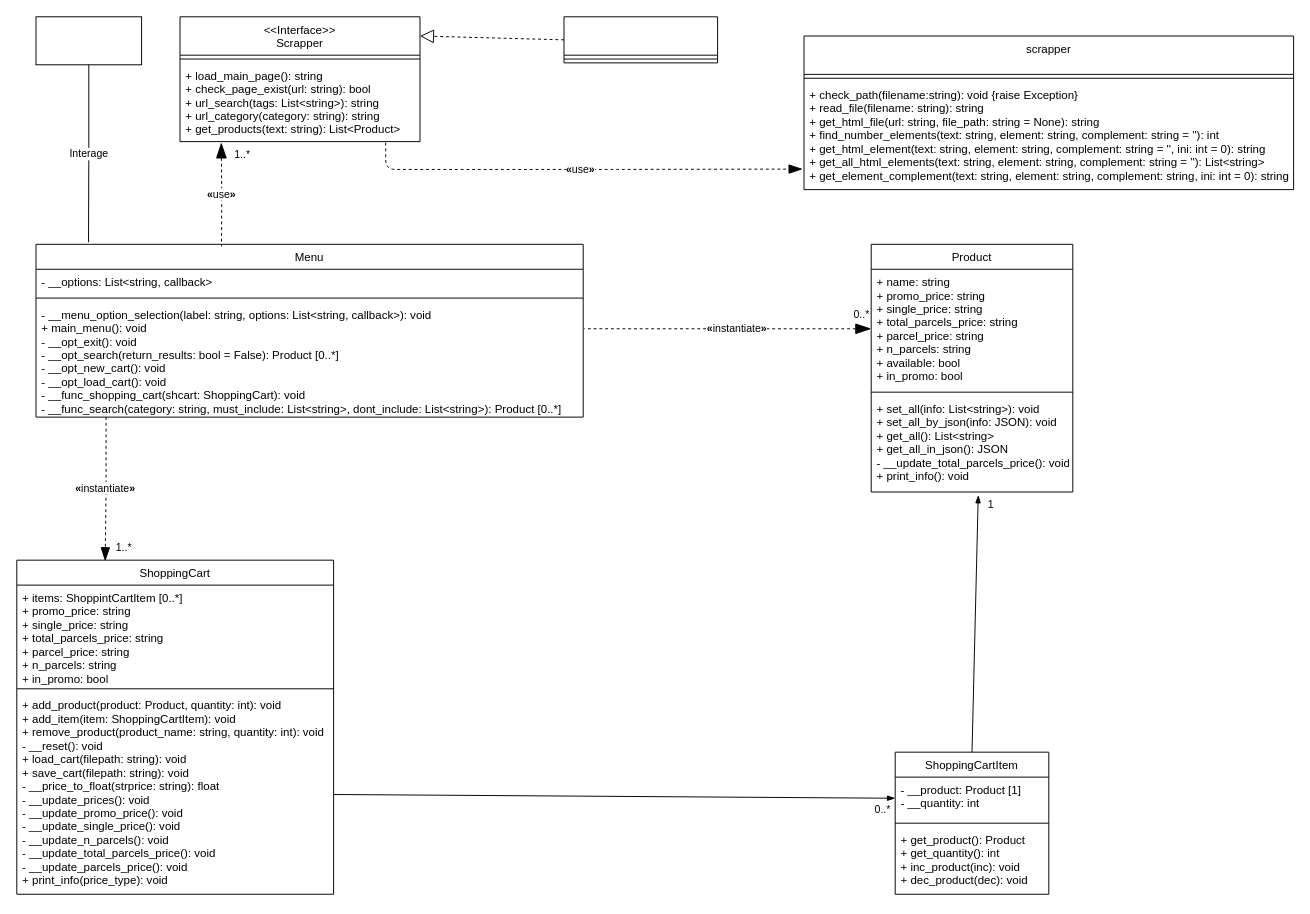
Some shapes in this 1310 by 914 pixel diagram are drawn without their labels. The centre of each missing label's shape, as x and y in pixels:
terabyte_scrapper: the point at 640,39
Usuário: the point at 88,40
